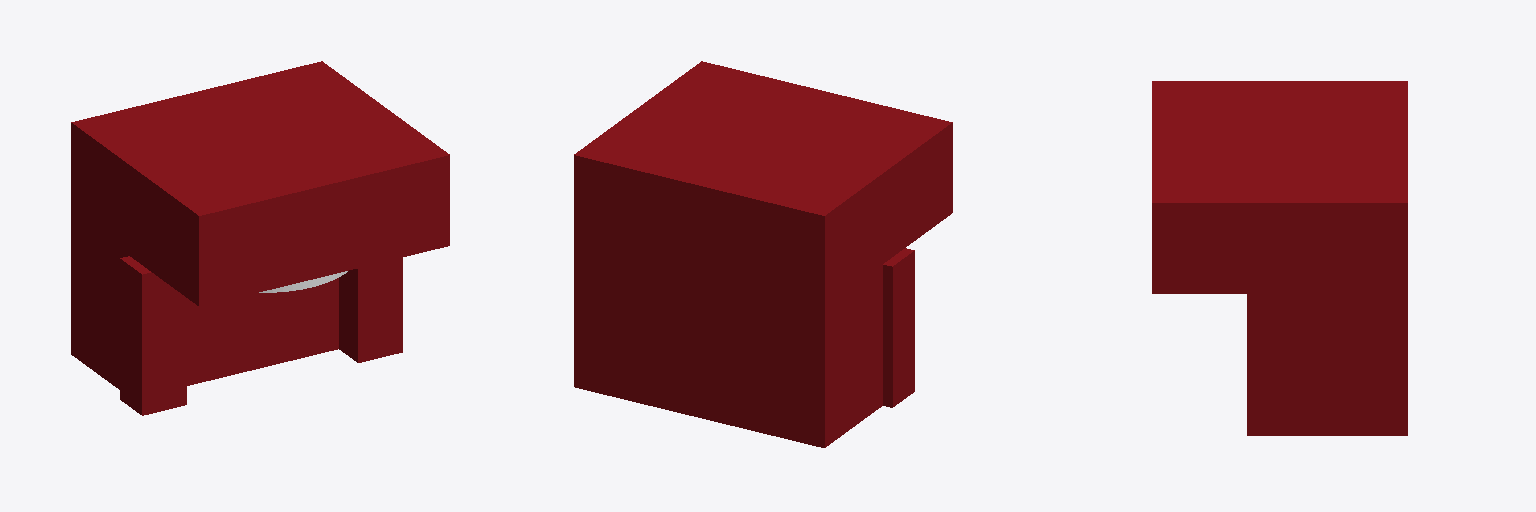
File: tinker2.obj
3 views of the same model, side by side, from view 1: azimuth 30°, elevation 25°; view 2: azimuth 150°, elevation 25°; view 3: azimuth 270°, elevation 25° (orthographic).
Visible parts, largest first — view 1: obj_0; view 2: obj_0; view 3: obj_0.
Part boxes in pixels (x1,y1,x2,y2): obj_0: (71,61,449,415); obj_0: (574,61,952,447); obj_0: (1152,81,1407,435).
Size of the model in its own units: 27 by 23 by 23.